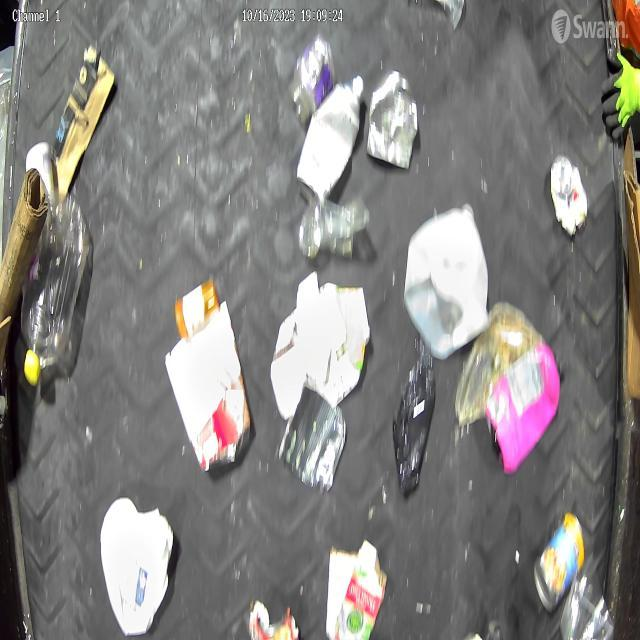can: (296, 72, 364, 206), (278, 382, 349, 494), (532, 508, 588, 616), (367, 68, 423, 172), (287, 32, 337, 124), (548, 156, 588, 240)
milk_jug: (401, 201, 492, 362), (98, 495, 176, 640)
non_white_jug: (486, 342, 562, 478)
plastic_bottle: (20, 187, 93, 390), (298, 198, 368, 258)
